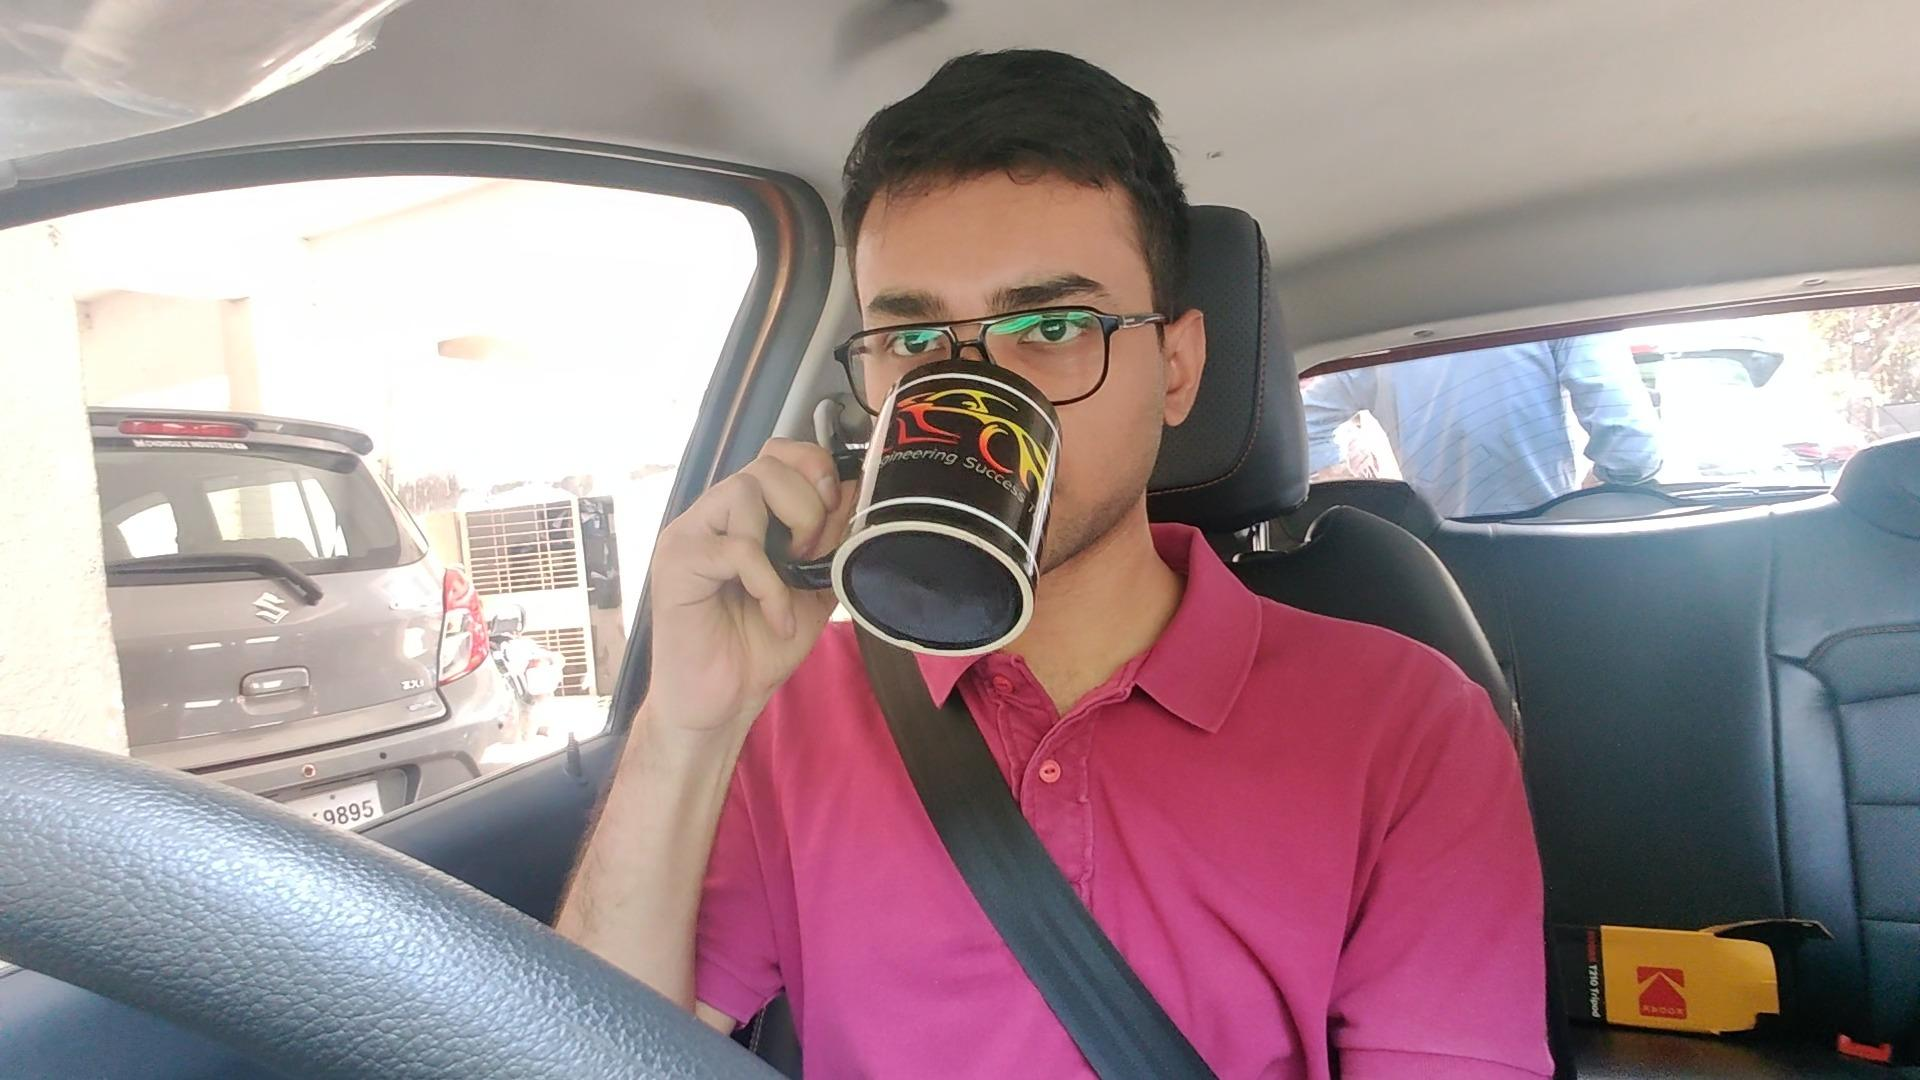Drinking: (653, 116, 1204, 705)
